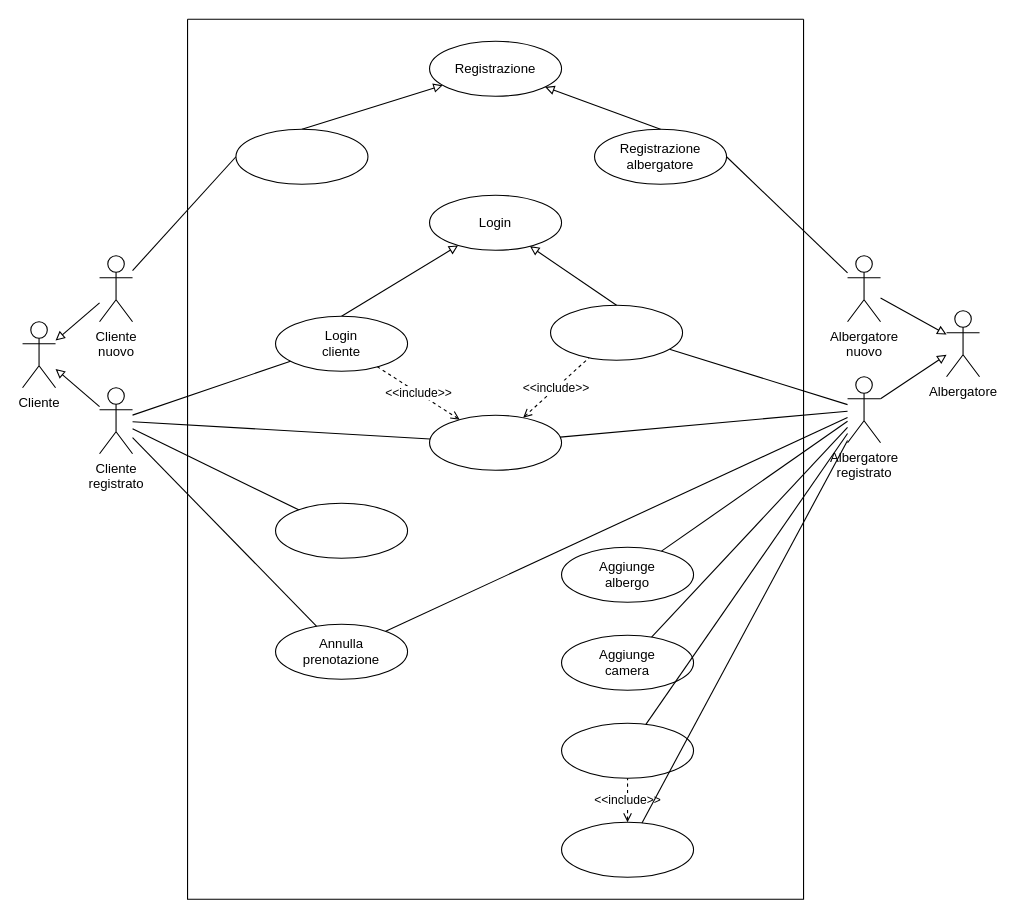
Some shapes in this 1016 by 919 pixel diagram are drawn without their labels. The centre of each missing label's shape, as x and y in pixels:
"Cancella albergo" belongs at [627,750].
"Cancella camera" belongs at [627,849].
"Effettua prenotazione" belongs at [341,530].
"Login albergatore" belongs at [616,332].
"Registrazione cliente" belongs at [301,156].
"Visualizza prenotazioni" belongs at [495,442].
